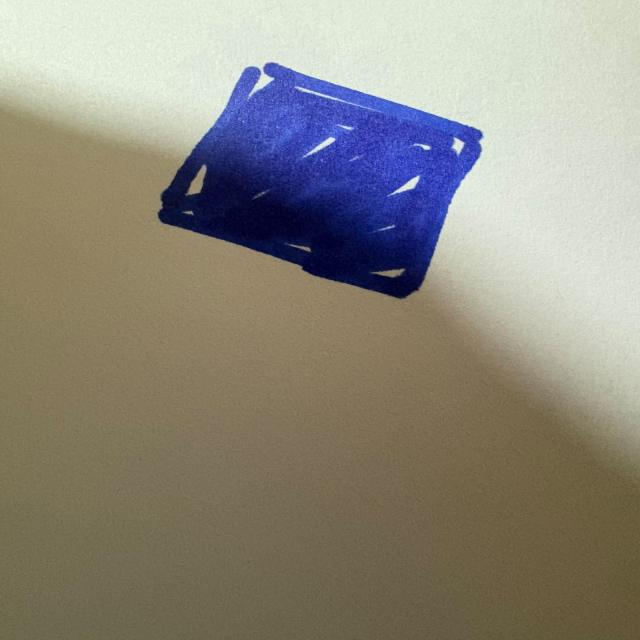Square: (158, 63, 482, 298)
